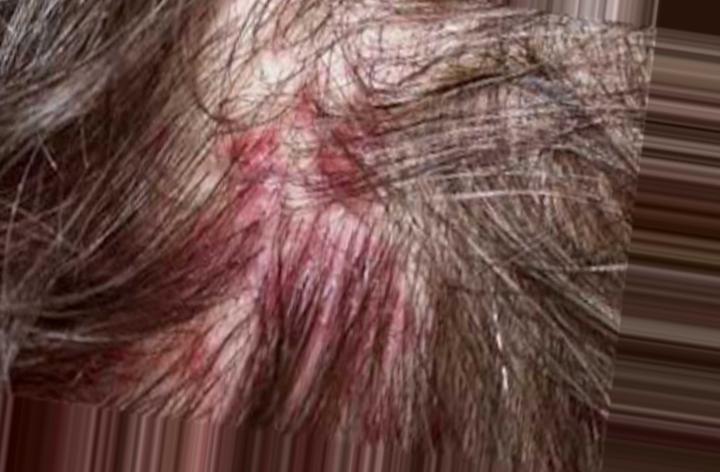Folliculitis: (180, 80, 432, 360)
